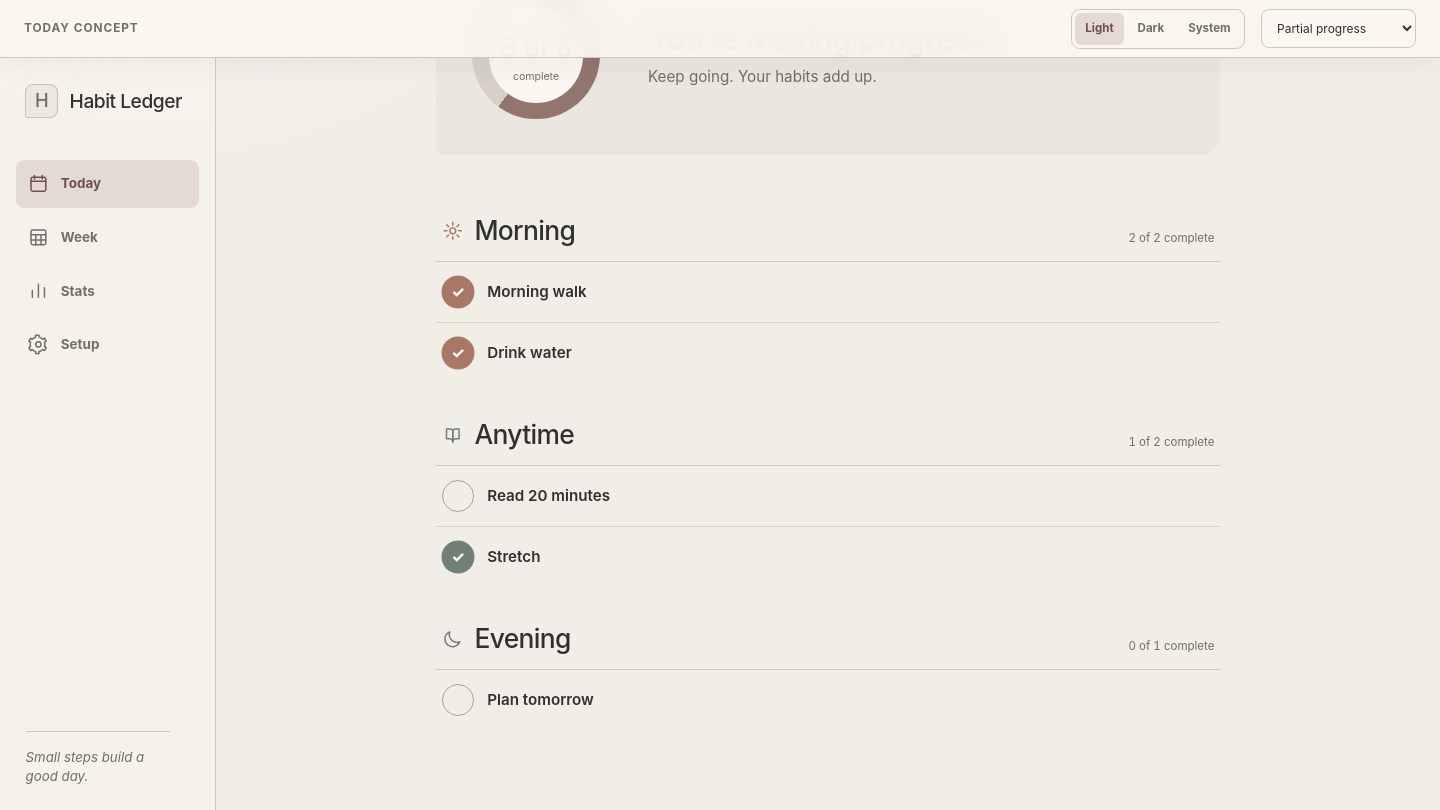
Test: TodayConcept › toggles habits and updates progress
(page scrolled)
Click the button "Read 20 minutes".
click(458, 496)  # box [436,466,1220,526]
(page scrolled)
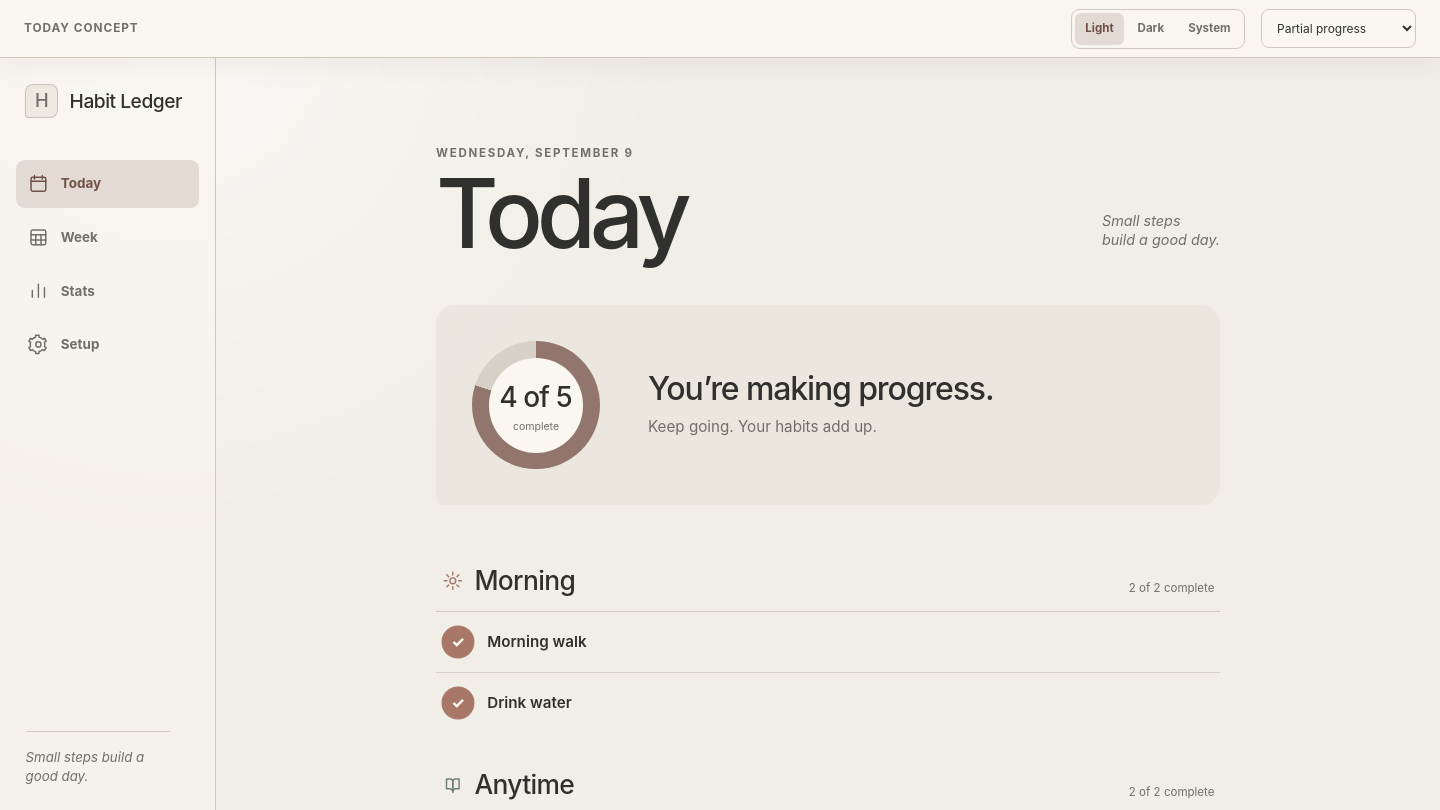
Expected: the progress indicator named "4 of 5 habits complete" is shown, [472,341,600,469]
